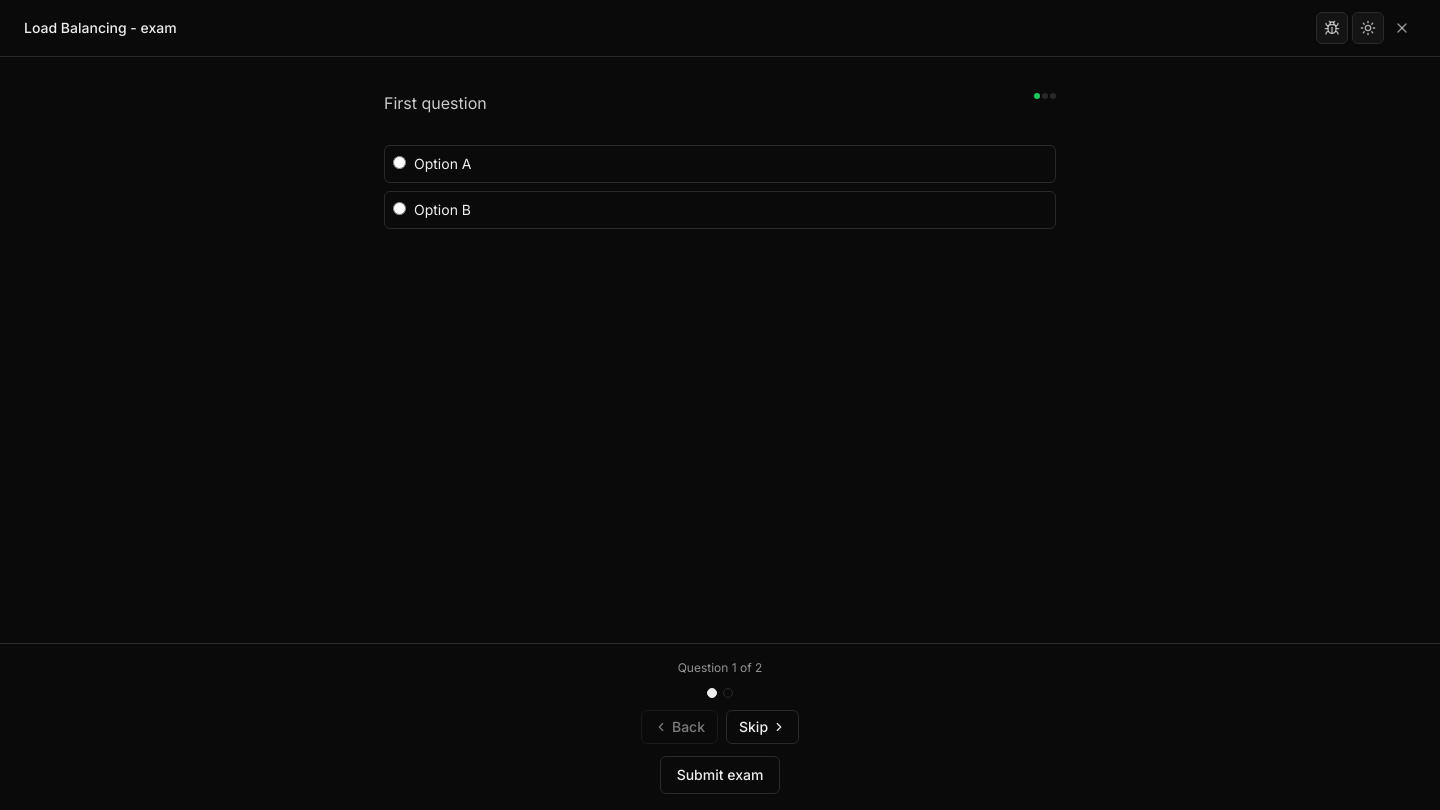
Test: ExamShell › jumping via a progress dot navigates directly to that question
Click the tab named "Question 2".
click(728, 693)  # box [723, 688, 733, 698]
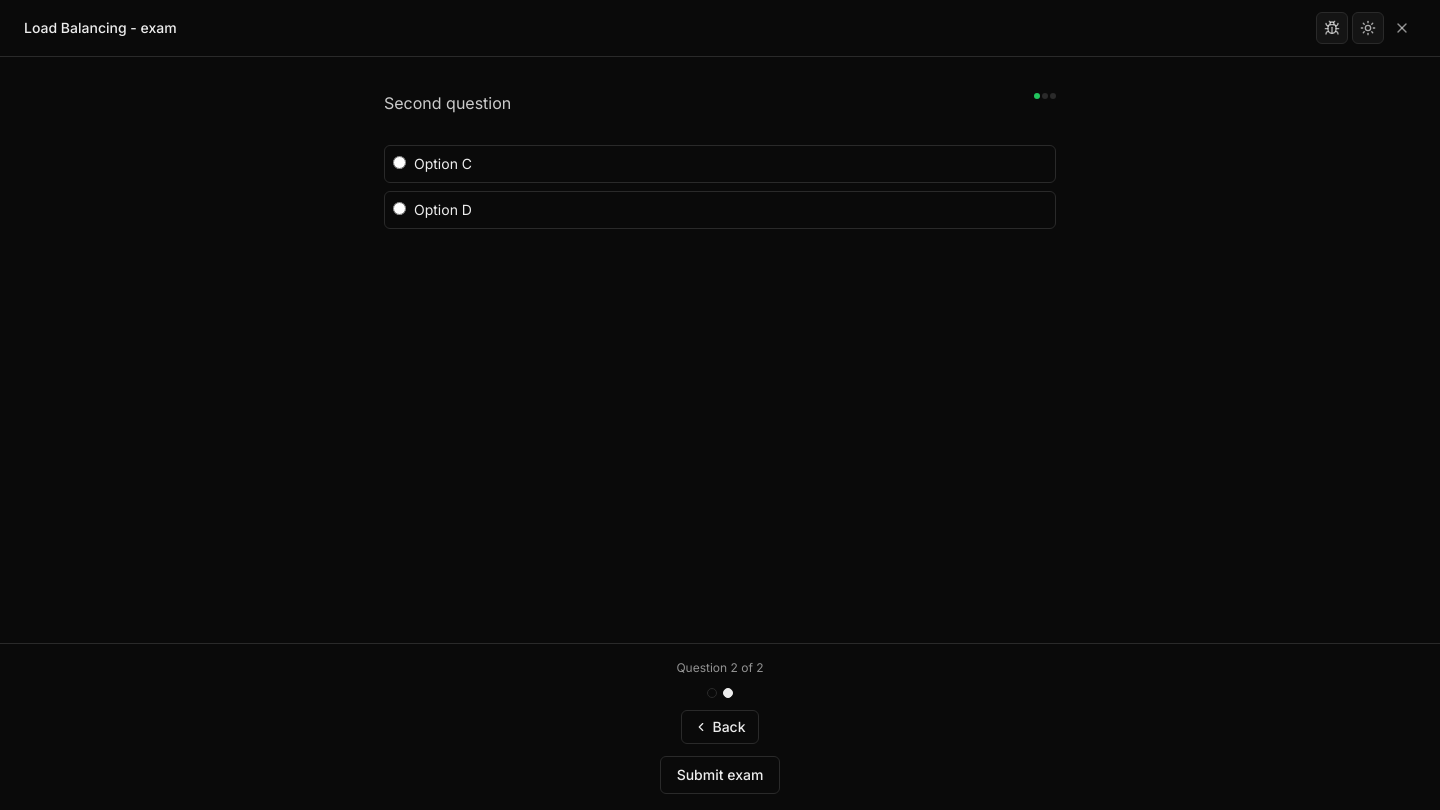
Now the text "Second question" is shown, box [384, 93, 511, 113]
